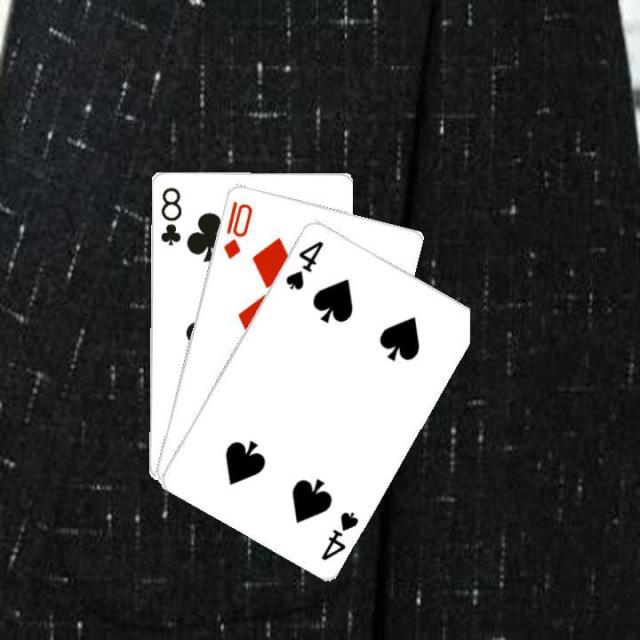10D: (219, 197, 254, 260)
4S: (316, 506, 361, 562), (281, 236, 325, 292)
8C: (156, 183, 183, 247)
